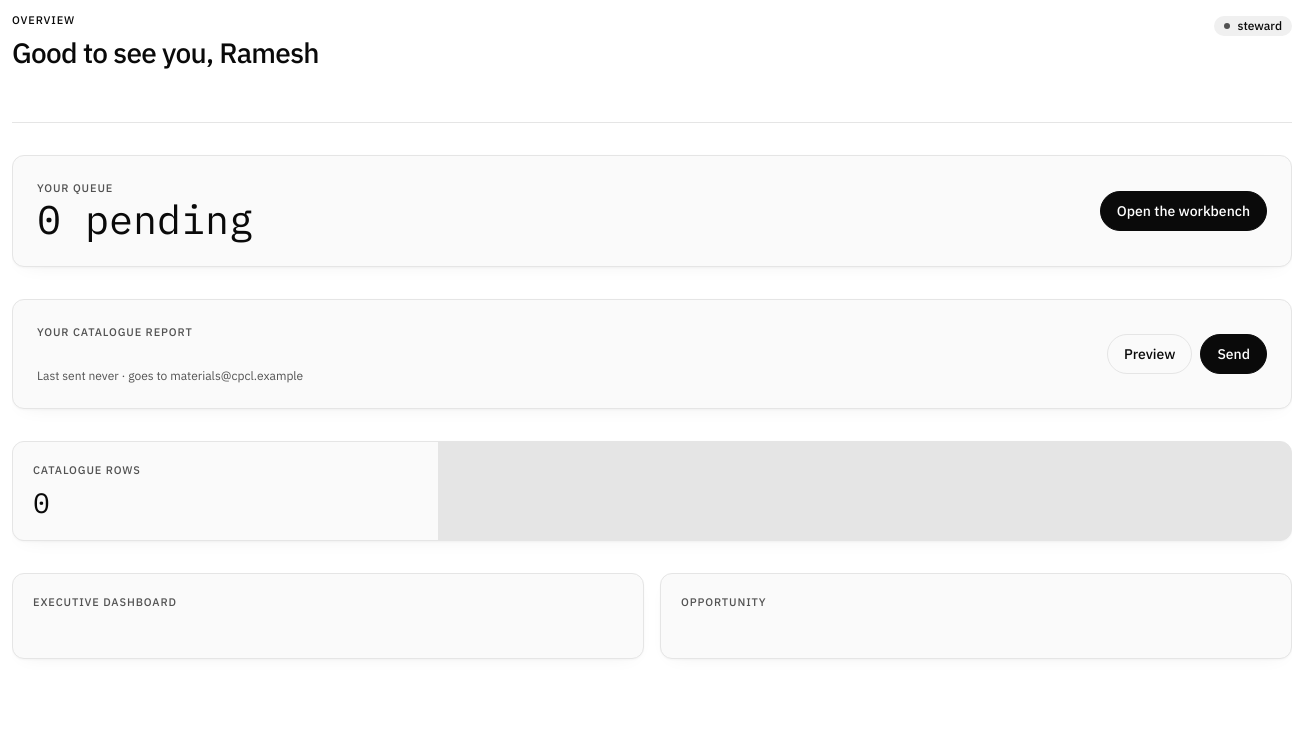
Scenario: the steward's Home card › offers their own report only, with Preview and Send
The width and height of the screenshot is (1292, 732).
Expected: the element with test id "report-card" shows "Your catalogue report", x1=37 y1=325 x2=193 y2=339
Expected: the element with test id "report-card" shows "CPCL's catalogue", x1=12 y1=299 x2=1291 y2=409
Click the button "Send": (1234, 354) x1=1200 y1=334 x2=1267 y2=374
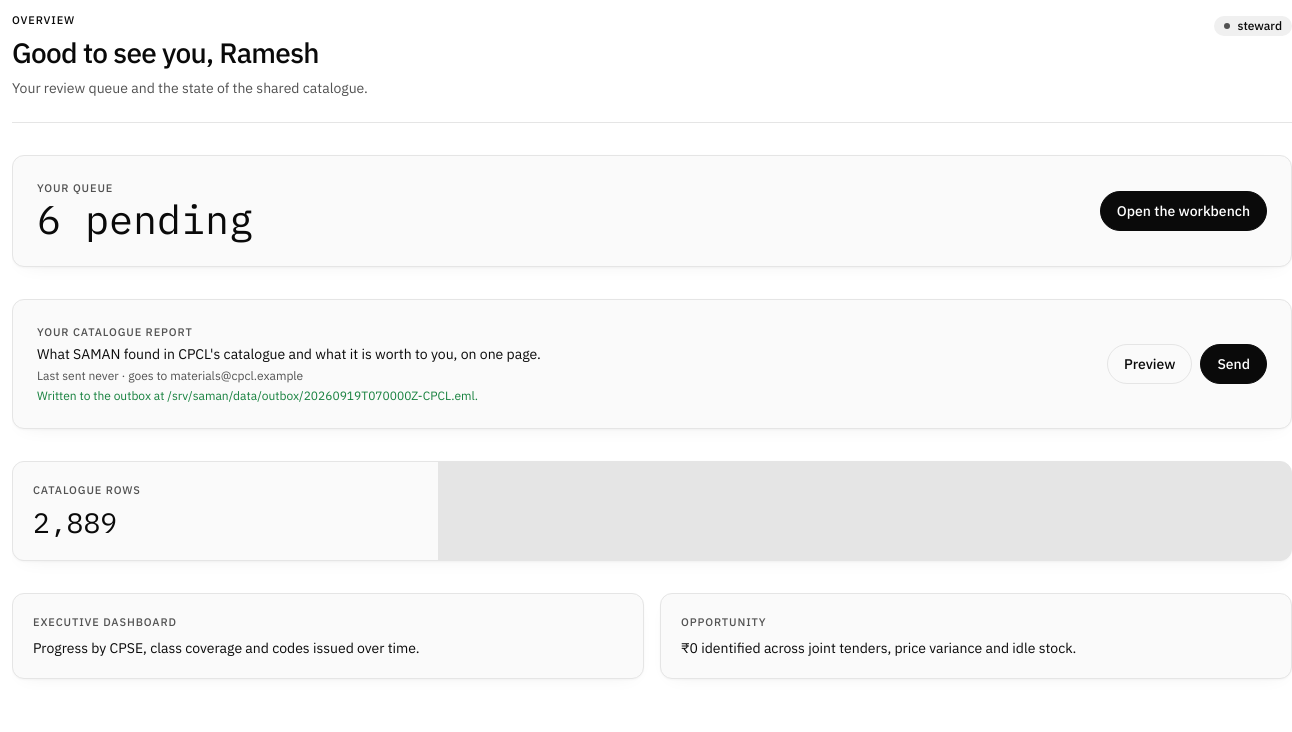
Expected: the message shows "Written to the outbox at", x1=37 y1=388 x2=478 y2=403
